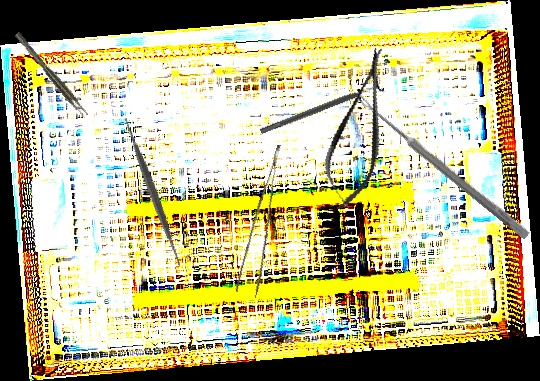Fixation Ring: (256, 73, 386, 141)
Micro Scissor: (313, 42, 406, 216)
Spatula Surgical: (69, 109, 236, 276)
Surgical Spoon: (353, 93, 532, 240)
Tissue Forceps: (227, 144, 306, 299), (14, 29, 90, 120)
